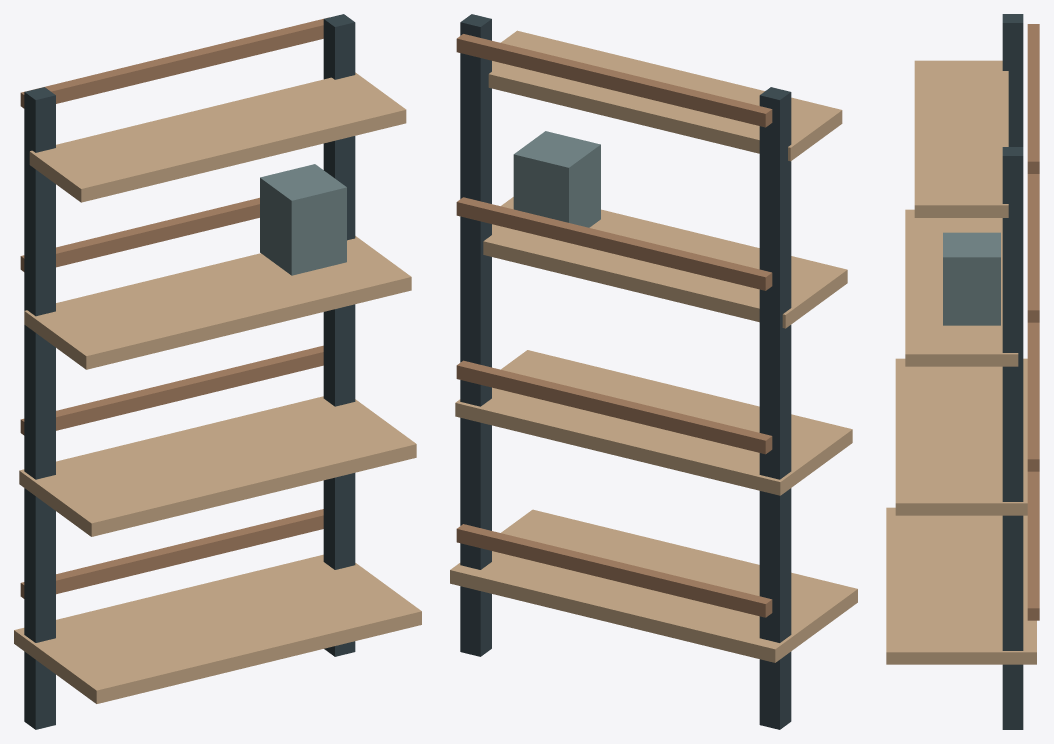
Rendered from shelf_ladder.glb.
3 views of the same model, side by side, from view 1: azimuth 30°, elevation 25°; view 2: azimuth 150°, elevation 25°; view 3: azimuth 270°, elevation 25° (orthographic). The views are drawn at different scales.
Visible parts, largest first — view 1: LadderShelf, _MeshInstance3D_46, _MeshInstance3D_48, _MeshInstance3D_50, LadderRail, _MeshInstance3D_45, DisplayVase, _MeshInstance3D_51, ShelfBack, _MeshInstance3D_47, _MeshInstance3D_49; view 2: LadderShelf, _MeshInstance3D_46, LadderRail, _MeshInstance3D_45, _MeshInstance3D_48, _MeshInstance3D_50, DisplayVase, _MeshInstance3D_47, ShelfBack, _MeshInstance3D_49, _MeshInstance3D_51; view 3: LadderShelf, _MeshInstance3D_46, _MeshInstance3D_50, _MeshInstance3D_45, _MeshInstance3D_48, DisplayVase, LadderRail, _MeshInstance3D_51, ShelfBack, _MeshInstance3D_47, _MeshInstance3D_49.
Boxes of the visible parts, x1,y1,x2,y2 form: LadderShelf: [14, 554, 421, 703]; _MeshInstance3D_46: [19, 396, 416, 536]; _MeshInstance3D_48: [24, 236, 411, 369]; _MeshInstance3D_50: [29, 72, 406, 202]; LadderRail: [24, 87, 55, 729]; _MeshInstance3D_45: [323, 14, 355, 656]; DisplayVase: [260, 164, 346, 275]; _MeshInstance3D_51: [20, 17, 329, 108]; ShelfBack: [20, 509, 323, 598]; _MeshInstance3D_47: [20, 345, 323, 435]; _MeshInstance3D_49: [20, 197, 259, 271]; LadderShelf: [450, 509, 857, 662]; _MeshInstance3D_46: [455, 350, 852, 495]; LadderRail: [759, 87, 791, 729]; _MeshInstance3D_45: [460, 14, 491, 656]; _MeshInstance3D_48: [483, 197, 847, 328]; _MeshInstance3D_50: [488, 30, 842, 161]; DisplayVase: [513, 131, 600, 227]; _MeshInstance3D_47: [456, 360, 772, 454]; ShelfBack: [456, 524, 772, 617]; _MeshInstance3D_49: [456, 197, 772, 290]; _MeshInstance3D_51: [456, 34, 772, 127]; LadderShelf: [886, 507, 1036, 664]; _MeshInstance3D_46: [895, 358, 1027, 515]; _MeshInstance3D_50: [914, 60, 1008, 217]; _MeshInstance3D_45: [1002, 147, 1023, 729]; _MeshInstance3D_48: [905, 209, 1018, 366]; DisplayVase: [943, 232, 1000, 325]; LadderRail: [1002, 14, 1023, 146]; _MeshInstance3D_51: [1027, 24, 1039, 173]; ShelfBack: [1027, 471, 1039, 620]; _MeshInstance3D_47: [1027, 322, 1039, 471]; _MeshInstance3D_49: [1027, 174, 1039, 322].
Bounding box in the file's own units: 1 × 1.85 × 0.4475.
